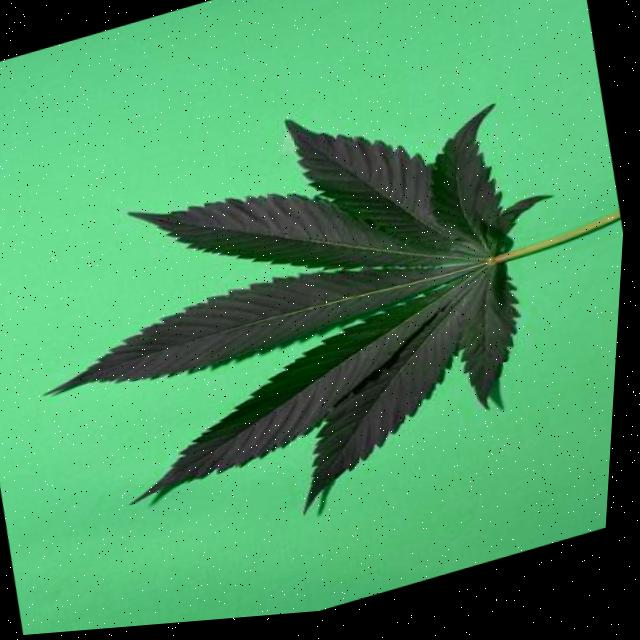cannabis: (33, 98, 619, 519)
